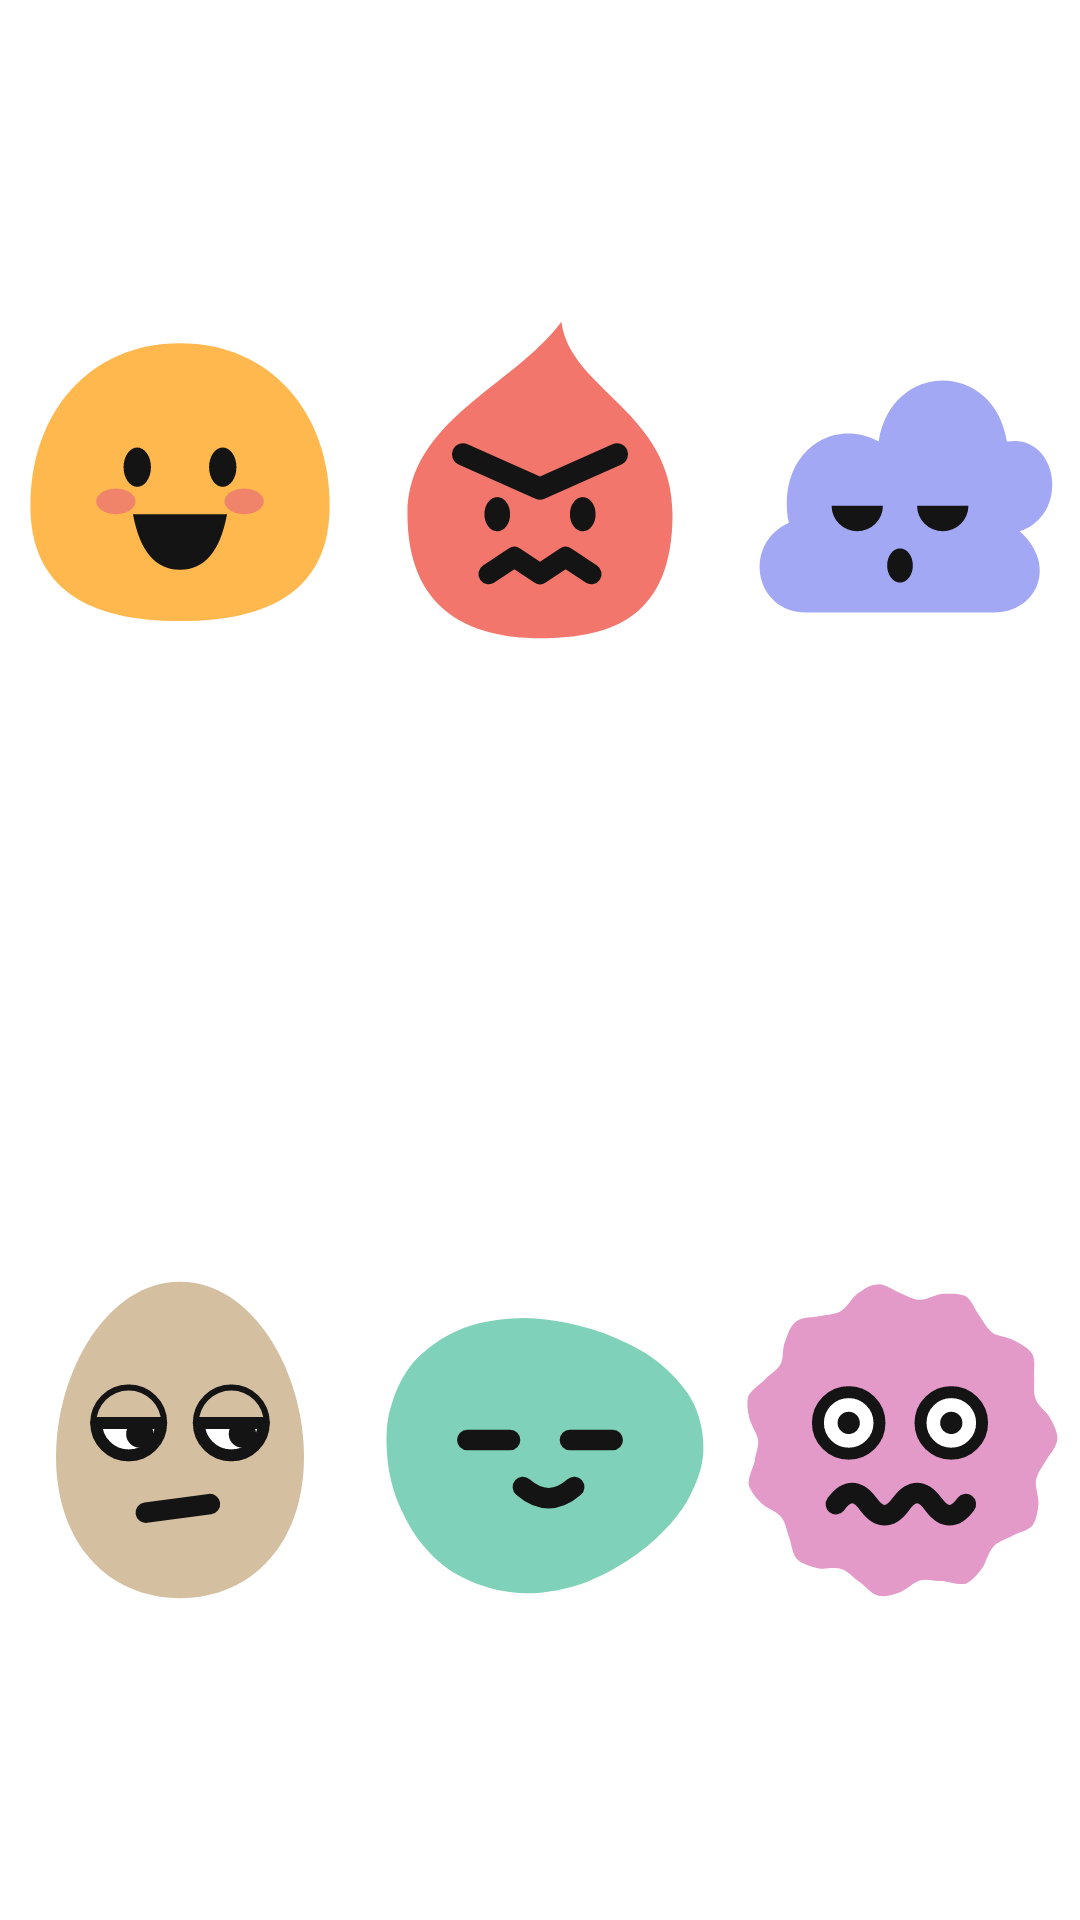

Named icons in this screenshot (1080*1920) and their bounding boxes, rect(x1, y1, x2, y2):
Aburrido: rect(56, 1282, 304, 1598)
Enojado: rect(407, 322, 673, 639)
Estresado: rect(747, 1284, 1058, 1596)
Feliz: rect(30, 343, 330, 621)
Somnoliento: rect(759, 380, 1052, 613)
Tranquilo: rect(386, 1318, 704, 1594)
